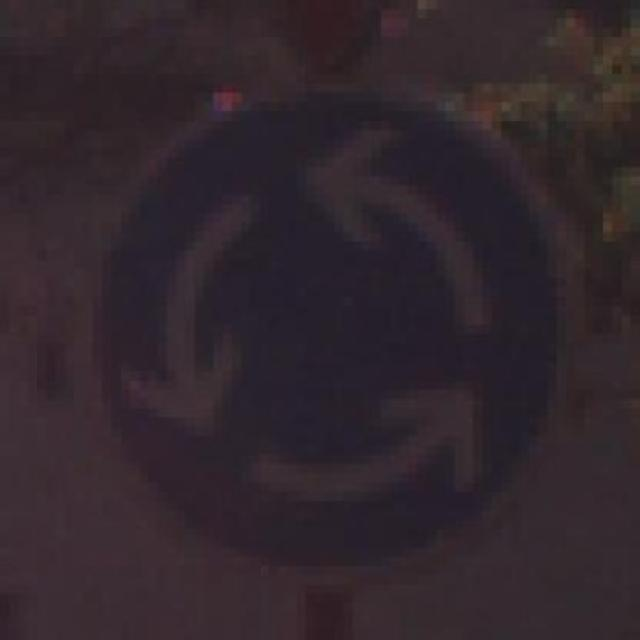Round-About: (37, 46, 603, 603)
